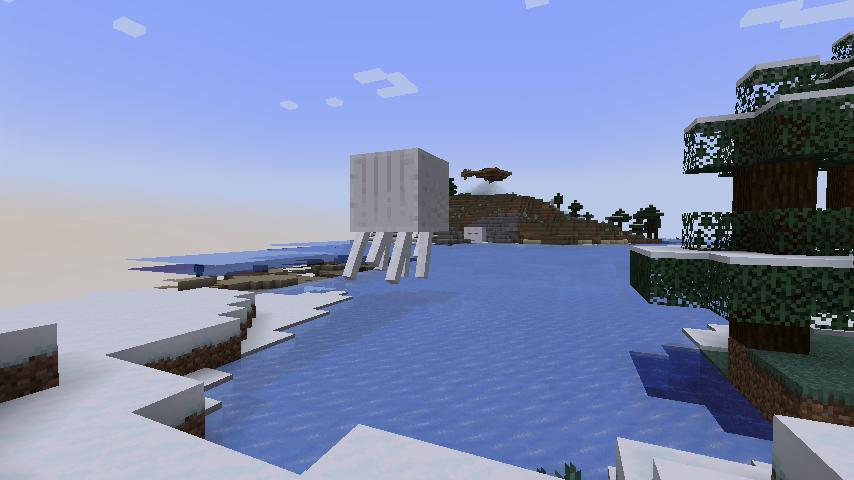ghast: (340, 146, 453, 283), (464, 226, 486, 244)
